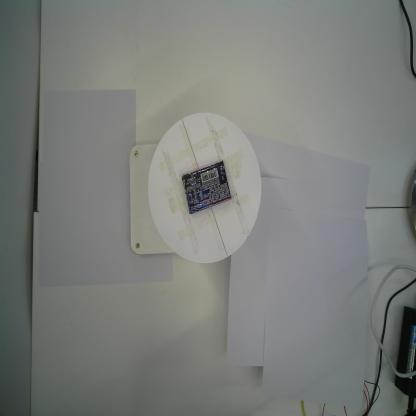Gum: (181, 159, 233, 217)
